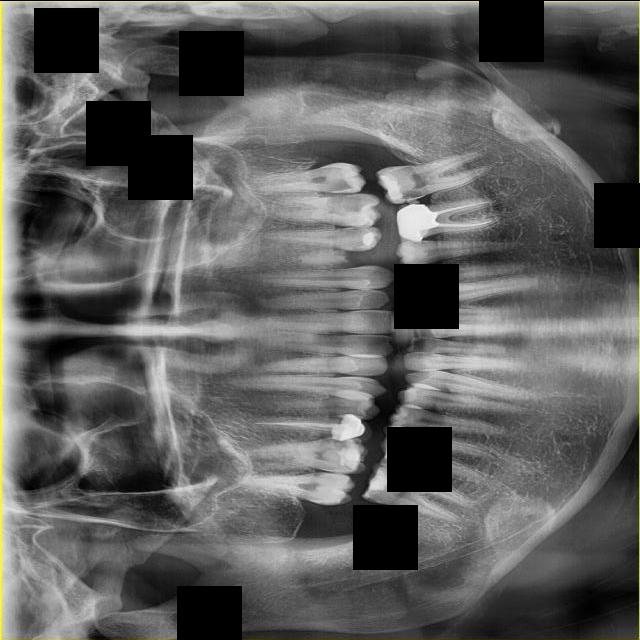72: (295, 247, 351, 270)
74: (436, 197, 490, 214), (256, 419, 336, 430), (436, 220, 492, 228)
NucleOSS Implant: (413, 209, 441, 230)
Sterngold Implant: (325, 192, 377, 214), (391, 426, 437, 445), (318, 178, 359, 192), (384, 457, 418, 472), (335, 227, 372, 238), (397, 188, 424, 203), (364, 492, 386, 503), (347, 243, 364, 251), (409, 240, 430, 246)
Straumann Implant: (335, 439, 368, 471), (374, 168, 405, 201), (366, 467, 393, 495), (383, 429, 402, 457), (324, 438, 358, 450), (359, 227, 379, 247)
Zimmer Implant: (394, 200, 428, 244), (330, 413, 374, 442)
